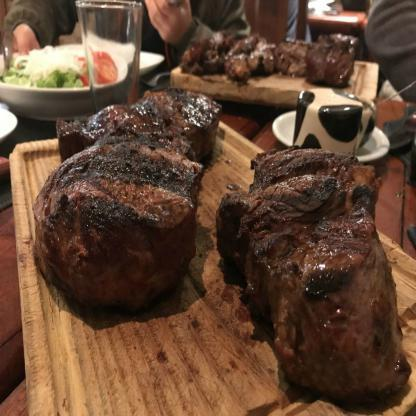beef: (248, 142, 394, 383), (71, 84, 204, 296)
